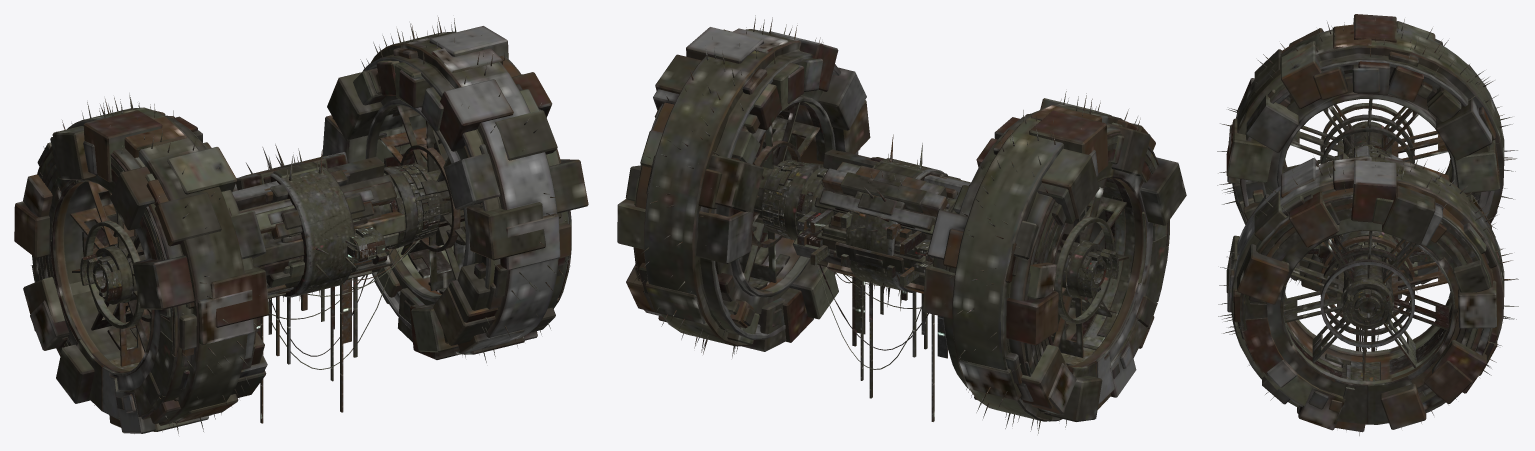
The model's file is station_wheel.glb.
3 renders of one model, left to right at view 1: azimuth 30°, elevation 25°; view 2: azimuth 150°, elevation 25°; view 3: azimuth 270°, elevation 25°, orthographic. The views are drawn at different scales.
Parts seen in each view (by area): view 1: station_1_low, station_1.006_low, station_2, station_1.003_low, station_2.006, station_2.011, station_1.005_low, station_2.010, station_2.001, station_2.002, station_2.003, station_1.004_low (+5 smaller); view 2: station_1_low, station_1.006_low, station_2, station_1.003_low, station_2.006, station_2.002, station_1.005_low, station_2.008, station_2.011, station_2.010, station_2.001, station_2.003 (+5 smaller); view 3: station_1_low, station_1.006_low, station_1.003_low, station_2.006, station_2.010, station_2.002, station_2.009, station_1.004_low, station_2.005, station_2.001, station_2, station_2.003.
Part boxes in pixels (x1,y1,x2,y2): station_1_low: (14, 26, 588, 433); station_1.006_low: (46, 31, 568, 425); station_2: (232, 152, 405, 298); station_1.003_low: (31, 57, 571, 420); station_2.006: (70, 105, 465, 366); station_2.011: (270, 163, 354, 297); station_1.005_low: (256, 277, 357, 423); station_2.010: (84, 139, 465, 328); station_2.001: (107, 164, 464, 302); station_2.002: (82, 106, 451, 370); station_2.003: (387, 163, 440, 249); station_1.004_low: (43, 17, 570, 433); station_1_low: (617, 27, 1186, 421); station_1.006_low: (634, 29, 1154, 421); station_2: (792, 149, 970, 293); station_1.003_low: (633, 103, 1169, 415); station_2.006: (739, 102, 1128, 357); station_2.002: (749, 102, 1134, 365); station_1.005_low: (852, 276, 947, 421); station_2.008: (797, 209, 933, 286); station_2.011: (845, 158, 943, 292); station_2.010: (751, 137, 1114, 323); station_2.001: (753, 161, 1091, 298); station_2.003: (761, 160, 827, 238); station_1_low: (1226, 14, 1500, 432); station_1.006_low: (1231, 28, 1504, 424); station_1.003_low: (1240, 160, 1490, 424); station_2.006: (1283, 99, 1449, 380); station_2.010: (1320, 103, 1414, 347); station_2.002: (1283, 169, 1452, 381); station_2.009: (1342, 121, 1393, 329); station_1.004_low: (1217, 18, 1518, 435); station_2.005: (1342, 125, 1392, 324); station_2.001: (1332, 125, 1407, 309); station_2: (1318, 145, 1421, 286); station_2.003: (1331, 144, 1402, 280).
Bounding box in the file's own units: 1.08 × 0.8261 × 0.7696.
2 materials, 2 textured.
